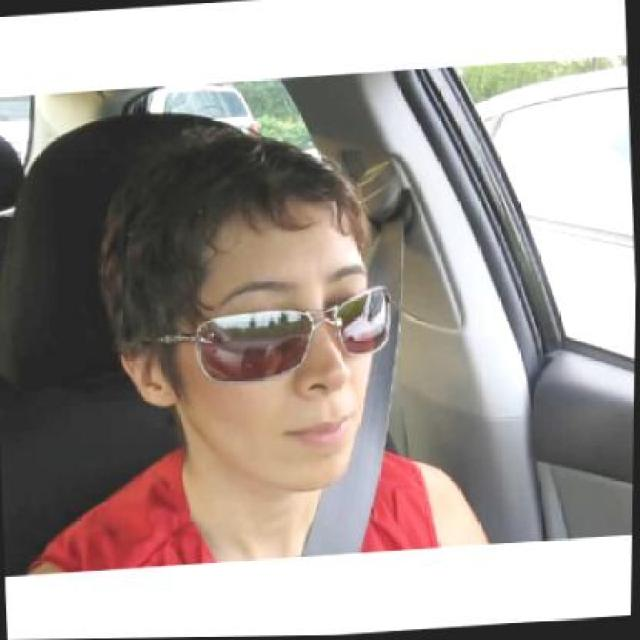attentif: (102, 123, 386, 506)
